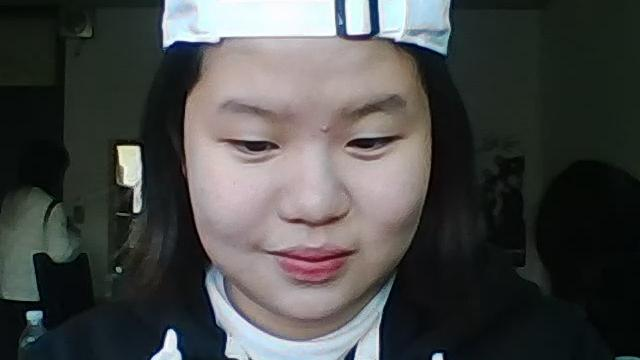eye: (247, 140, 265, 157), (357, 138, 374, 154)
iris: (344, 136, 390, 150), (232, 139, 278, 151)
